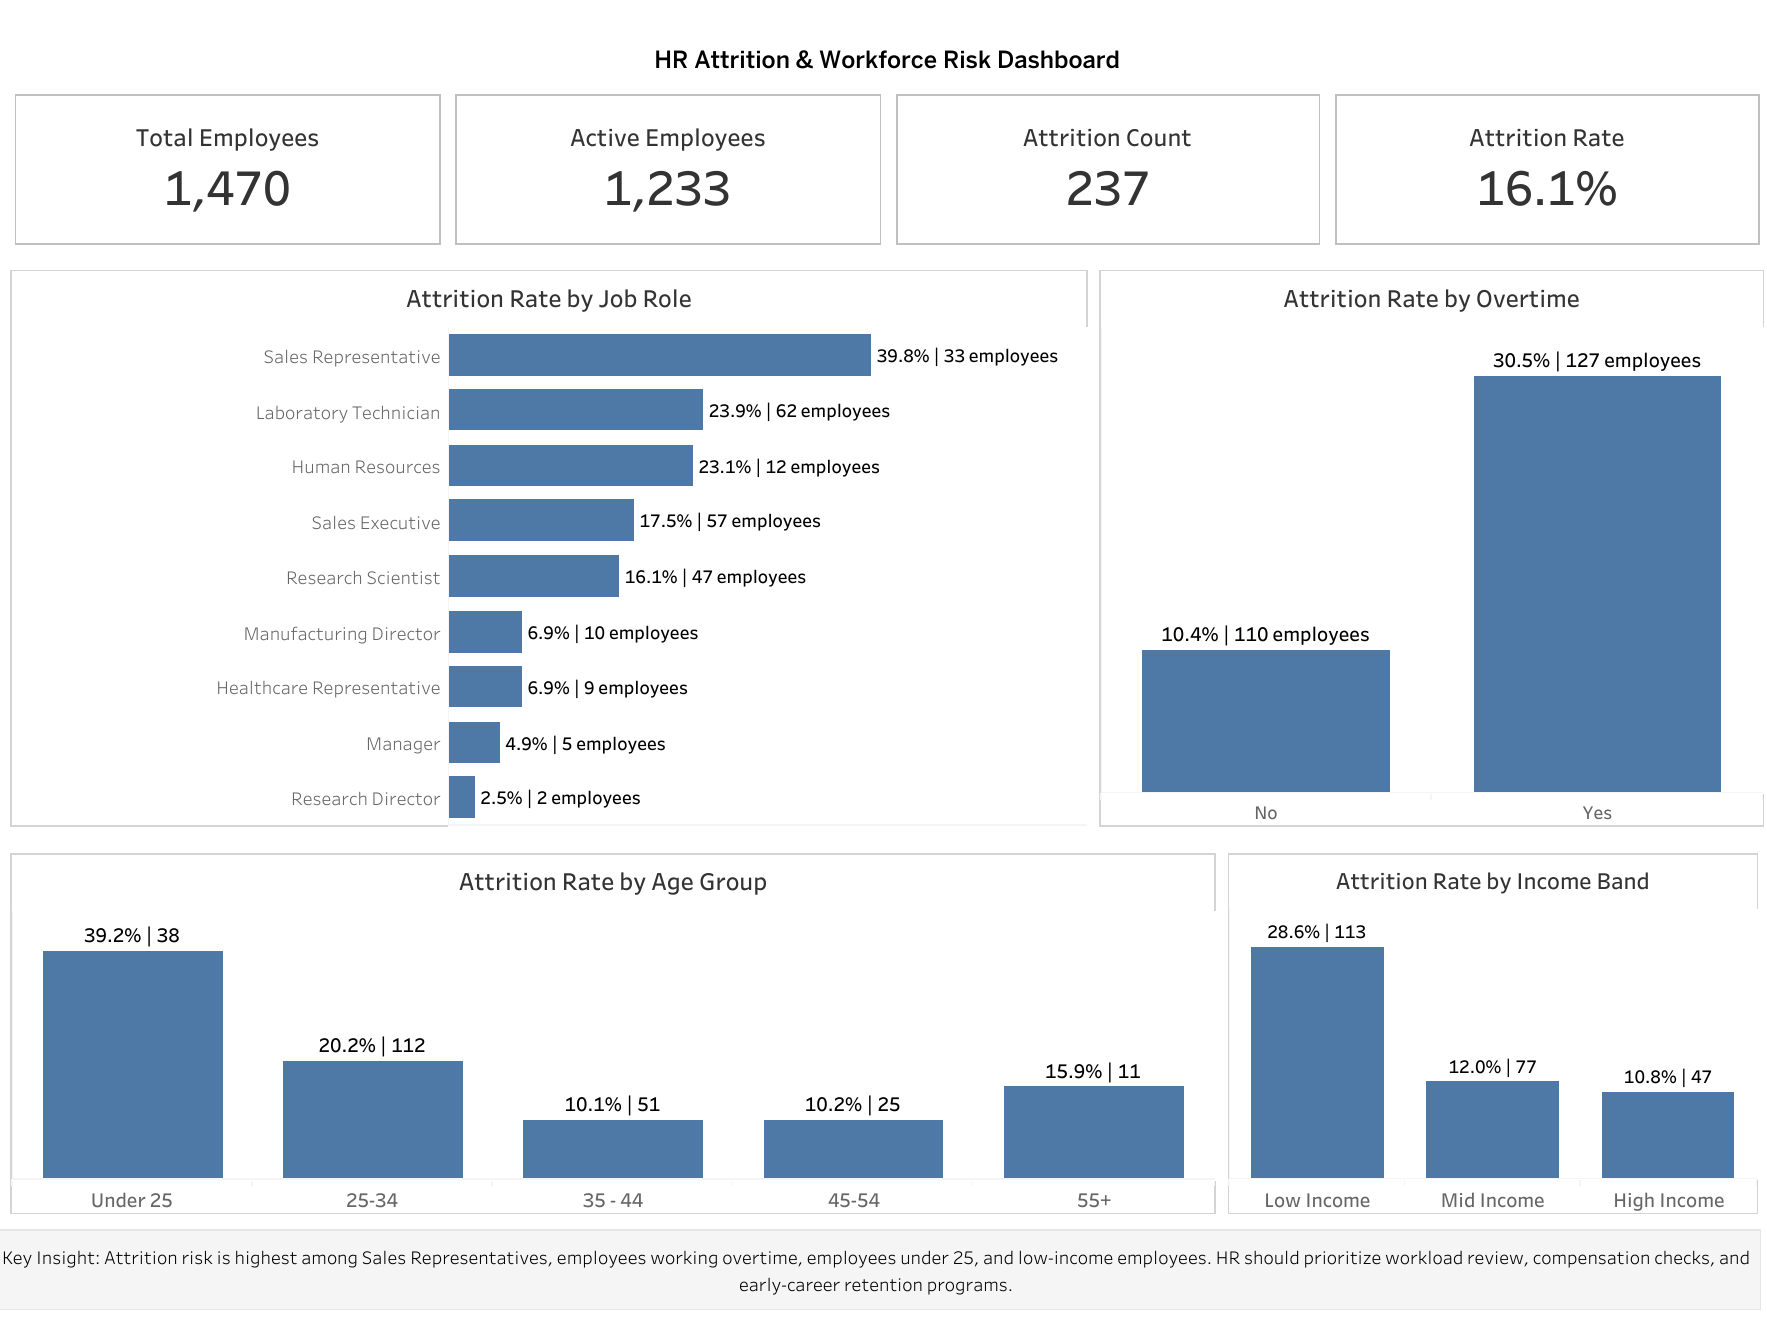

The page's visual inventory and layout, read from the dashboard file:
{"tool":"tableau","page":{"name":"HR Attrition & Workforce Risk Dashboard","canvas":[1200,900],"ordinal":0},"visuals":[{"type":"text","box":[12,11,1180,58]},{"type":"worksheet","title":"KPI - Total Employees","mark":"Text","box":[5,59,299,112]},{"type":"worksheet","title":"KPI - Active Employees","mark":"Automatic","box":[304,59,299,112]},{"type":"worksheet","title":"KPI - Attrition Count","mark":"Text","box":[603,59,298,112]},{"type":"worksheet","title":"KPI - Attrition Rate","mark":"Automatic","box":[901,59,298,112]},{"type":"worksheet","title":"Attrition Rate by Job Role","mark":"Automatic","rows":["JobRole"],"cols":["Calculation_0481897855746051"],"box":[3,179,739,386]},{"type":"worksheet","title":"Attrition Rate by Overtime","mark":"Automatic","rows":["Calculation_0481897855746051"],"cols":["OverTime"],"box":[742,179,459,386]},{"type":"worksheet","title":"Attrition Rate by Age Group","mark":"Automatic","rows":["Calculation_0481897855746051"],"cols":["Calculation_0295530989813760"],"box":[3,575,826,253]},{"type":"worksheet","title":"Attrition Rate by Income Band","mark":"Automatic","rows":["Calculation_0481897855746051"],"cols":["Calculation_0295530995994625"],"box":[829,575,368,253]},{"type":"text","box":[0,835,1205,59]}]}

Visuals, with their boxes in screenshot pixels (x1, y1, x2, y2), scaled from the page's 1200x900 canvas onto the 1767x1325 screenshot:
text: {"x1": 18, "y1": 16, "x2": 1755, "y2": 102}
"KPI - Total Employees" worksheet (Text marks): {"x1": 7, "y1": 87, "x2": 448, "y2": 252}
"KPI - Active Employees" worksheet: {"x1": 448, "y1": 87, "x2": 888, "y2": 252}
"KPI - Attrition Count" worksheet (Text marks): {"x1": 888, "y1": 87, "x2": 1327, "y2": 252}
"KPI - Attrition Rate" worksheet: {"x1": 1327, "y1": 87, "x2": 1766, "y2": 252}
"Attrition Rate by Job Role" worksheet: {"x1": 4, "y1": 264, "x2": 1093, "y2": 832}
"Attrition Rate by Overtime" worksheet: {"x1": 1093, "y1": 264, "x2": 1766, "y2": 832}
"Attrition Rate by Age Group" worksheet: {"x1": 4, "y1": 847, "x2": 1221, "y2": 1219}
"Attrition Rate by Income Band" worksheet: {"x1": 1221, "y1": 847, "x2": 1763, "y2": 1219}
text: {"x1": 0, "y1": 1229, "x2": 1766, "y2": 1316}
